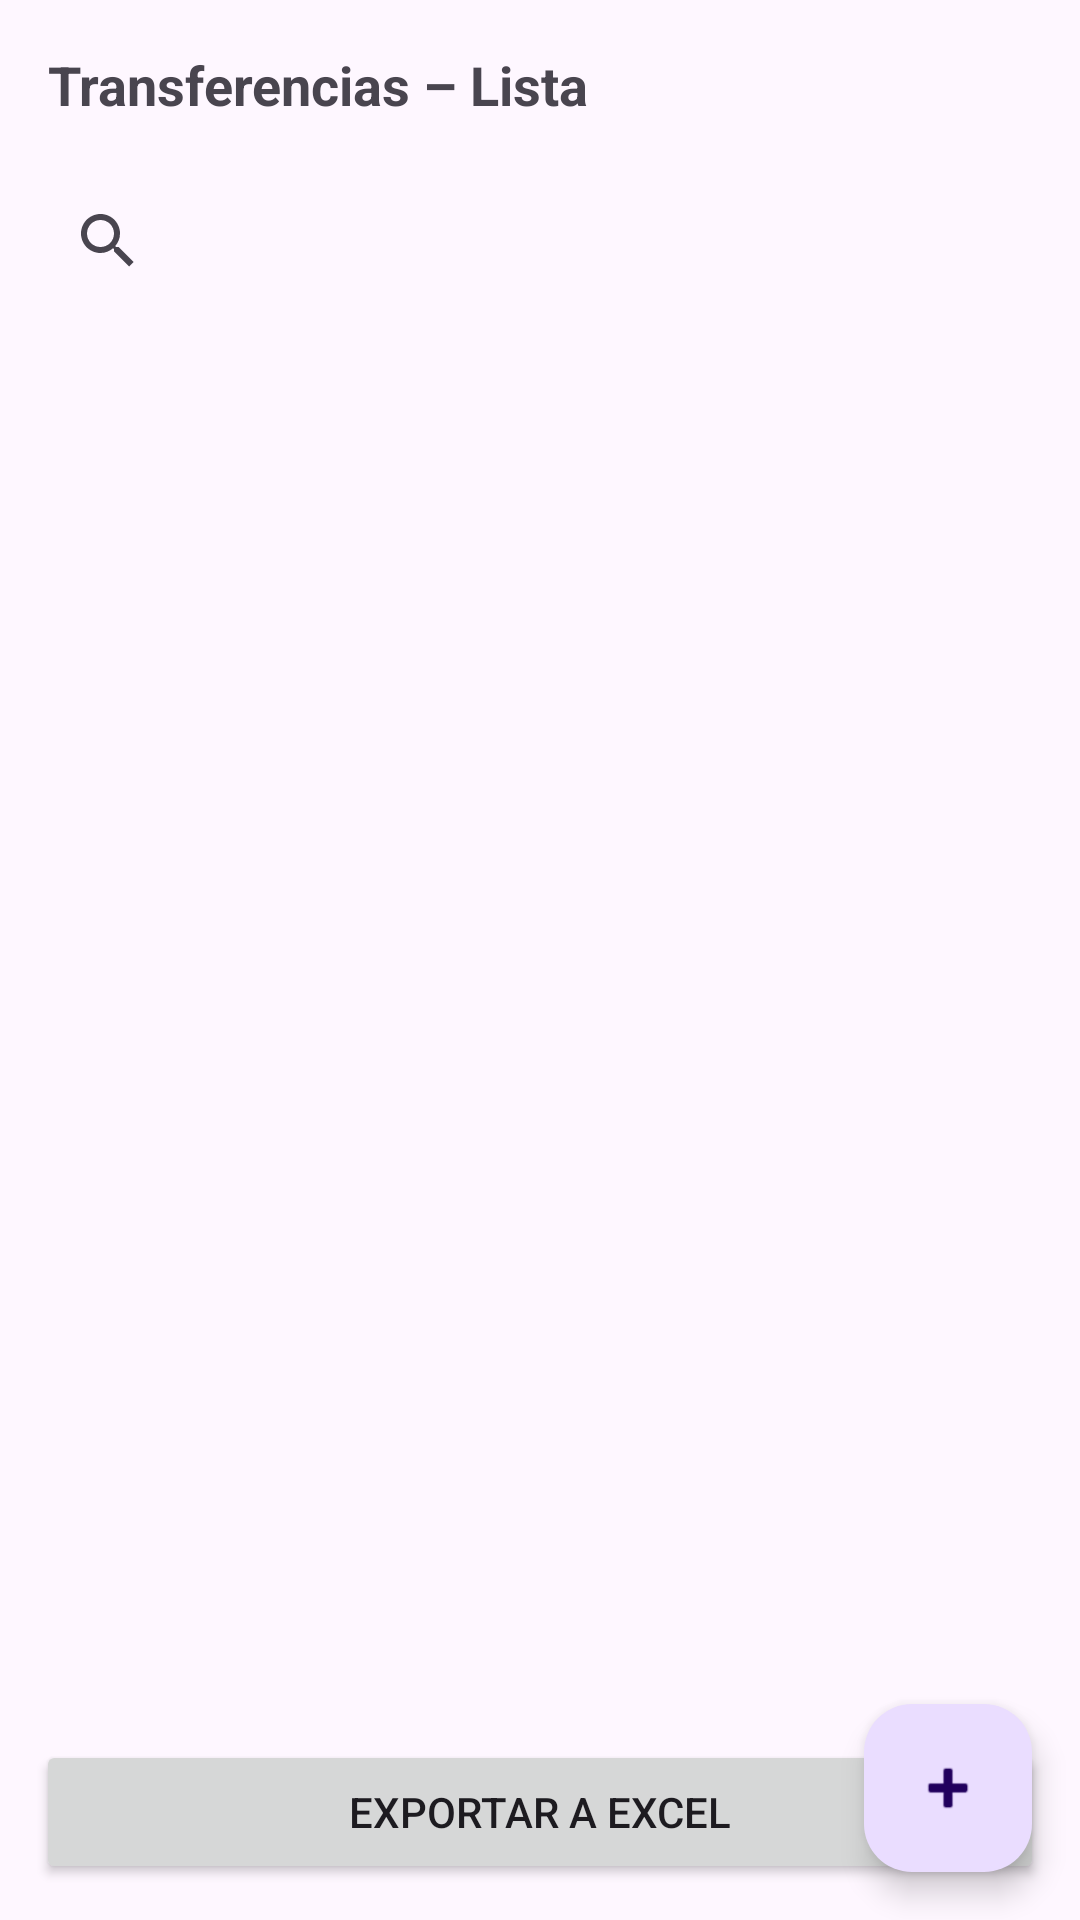

Icons on this 1080px×1920px Android screen, each with the point to tap as (x=x, y=y):
Nueva transferencia: (x=948, y=1788)
